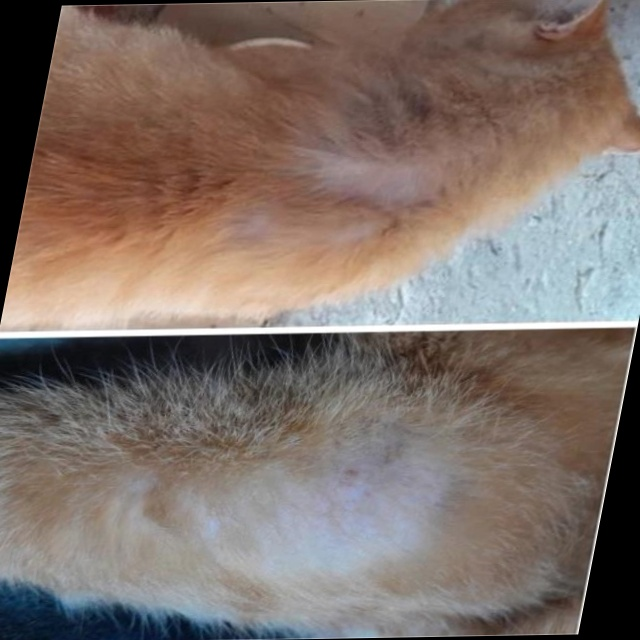hairloss: (199, 453, 442, 564), (315, 167, 431, 210), (227, 219, 371, 241)
